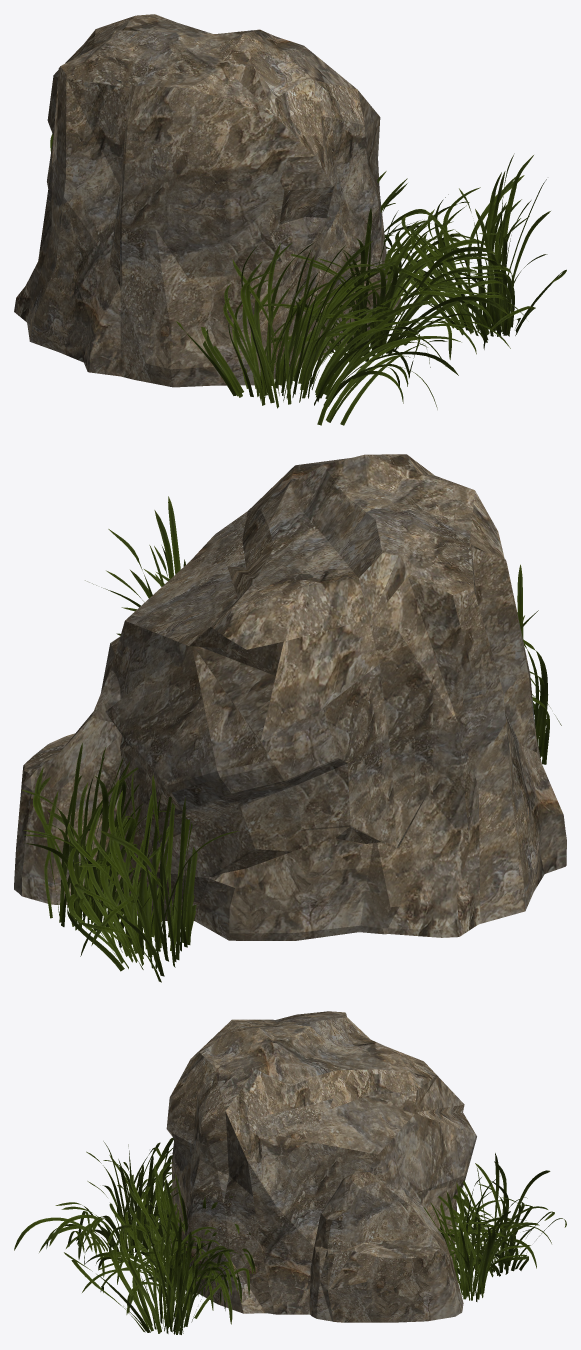
File: 5S_16Rock4.FBX
The picture shows the model from 3 angles, top to bottom: view 1: azimuth 30°, elevation 25°; view 2: azimuth 150°, elevation 25°; view 3: azimuth 270°, elevation 25°; orthographic projection. The views are drawn at different scales.
Parts seen in each view (by area): view 1: 5S_14rock6_11; view 2: 5S_14rock6_11; view 3: 5S_14rock6_11.
Part boxes in pixels (x1,y1,x2,y2): 5S_14rock6_11: (14, 14, 566, 425); 5S_14rock6_11: (14, 454, 566, 982); 5S_14rock6_11: (14, 1011, 566, 1334).
Bounding box in the file's own units: 1.9 × 1.28 × 2.76.
Materials: 2 (2 with a texture image).
